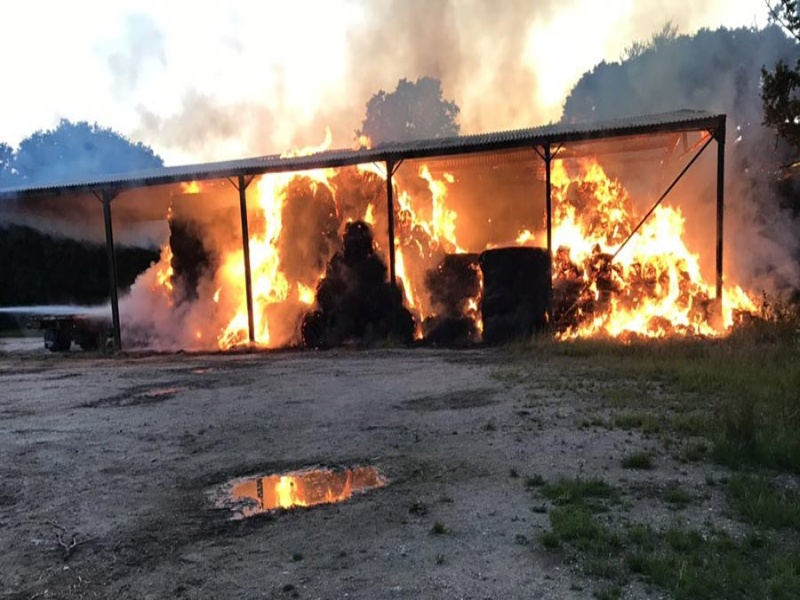smoke: (123, 276, 228, 344)
